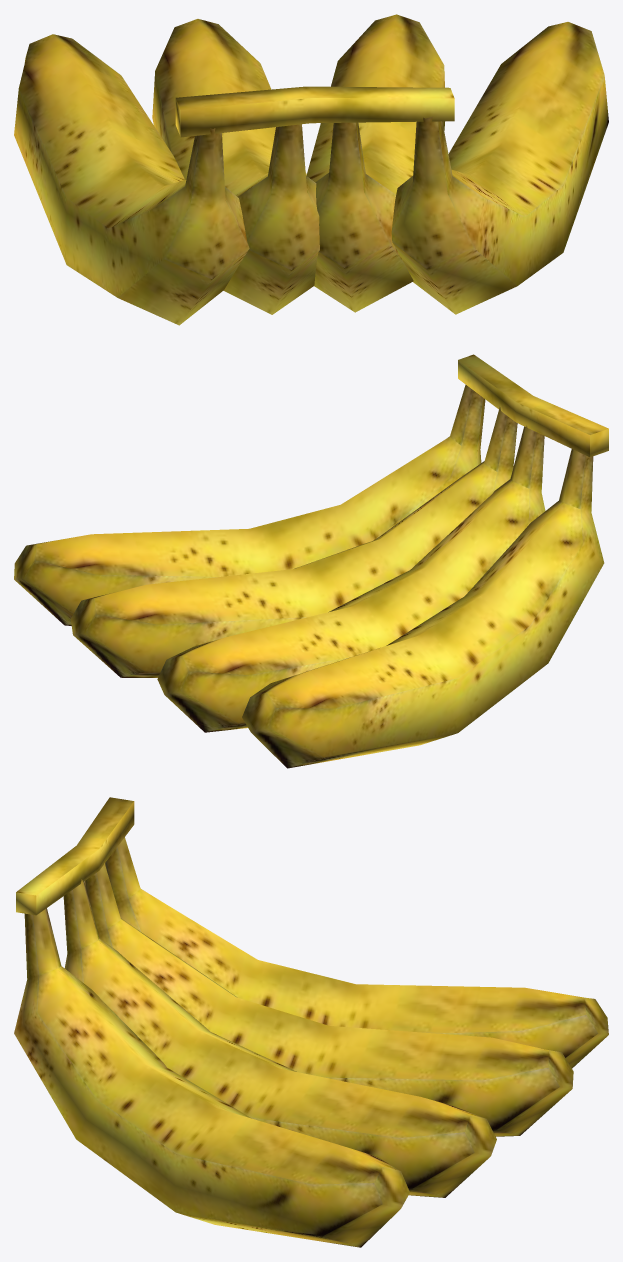
3 views of the same model, one above another, from view 1: azimuth 30°, elevation 25°; view 2: azimuth 150°, elevation 25°; view 3: azimuth 270°, elevation 25° (orthographic). The views are drawn at different scales.
Visible parts, largest first — view 1: Banana004_Foods_0; view 2: Banana004_Foods_0; view 3: Banana004_Foods_0.
Part boxes in pixels (x1=…): Banana004_Foods_0: x1=14, y1=14, x2=608, y2=325; Banana004_Foods_0: x1=14, y1=354, x2=608, y2=768; Banana004_Foods_0: x1=14, y1=797, x2=608, y2=1247.
Bounding box in the file's own units: 0.3357 × 0.1704 × 0.3451.
Materials: 1 (1 with a texture image).
